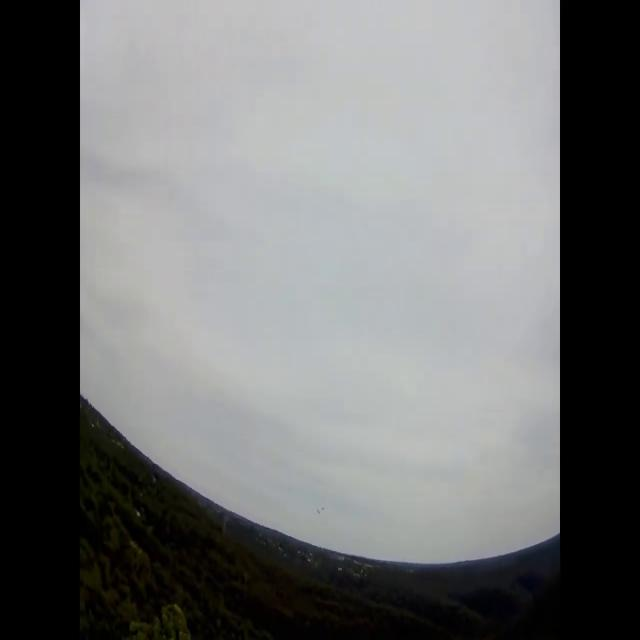iha: (317, 509, 323, 511)
